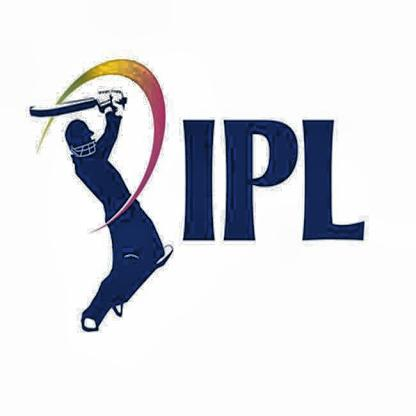IPL: (28, 59, 174, 332), (181, 118, 370, 240)
